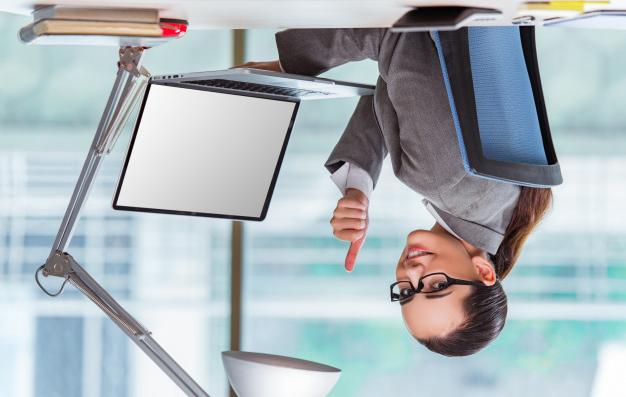thumbsdown: (330, 198, 367, 274)
